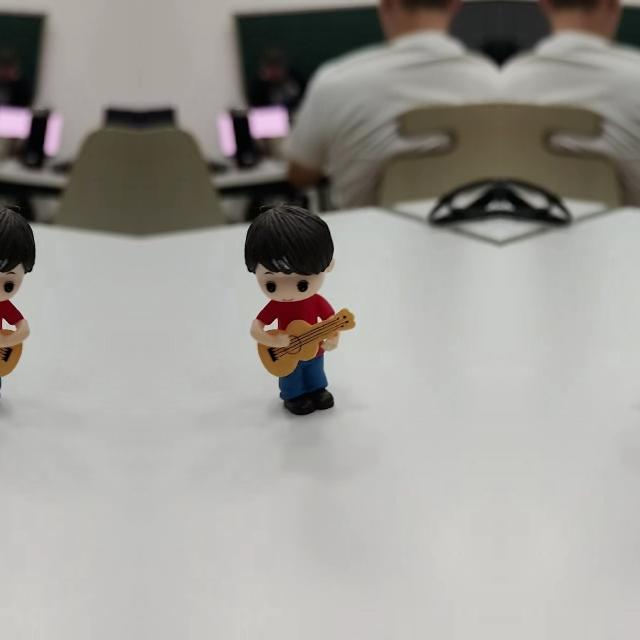man cloth: (252, 294, 334, 328), (0, 294, 28, 327)
man head: (242, 204, 338, 306), (0, 203, 38, 306)
trousers: (276, 353, 334, 415), (0, 353, 4, 415)
